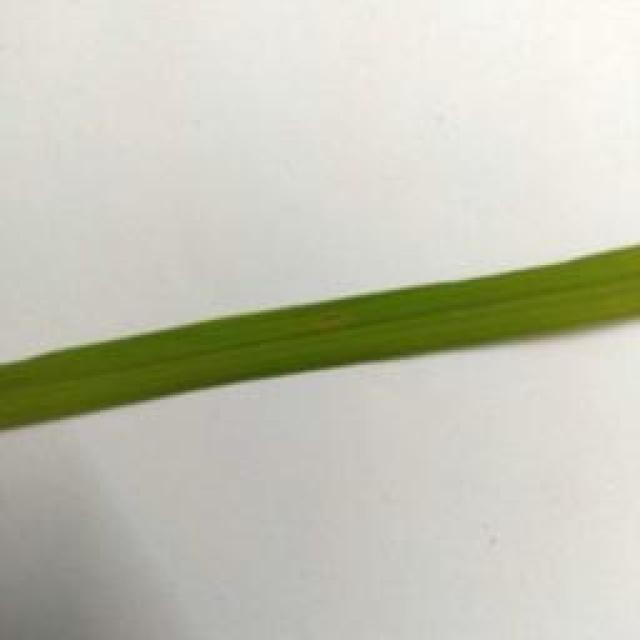Brown_Spot: (295, 304, 354, 342)
